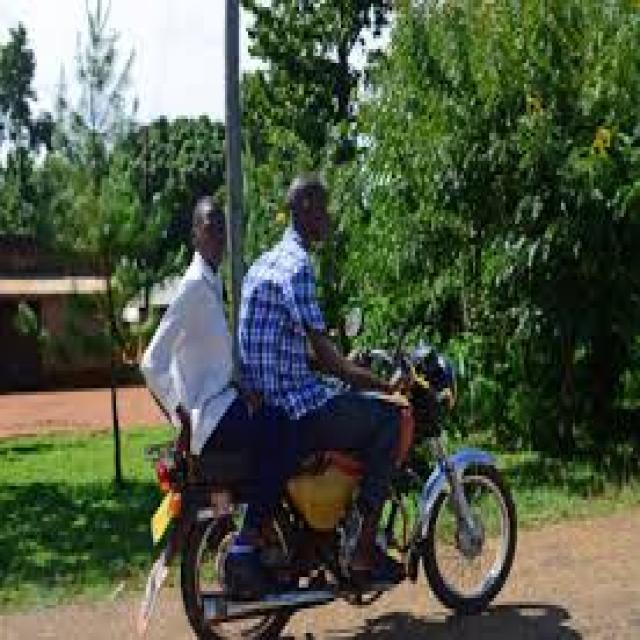bodaboda: (111, 255, 556, 640)
